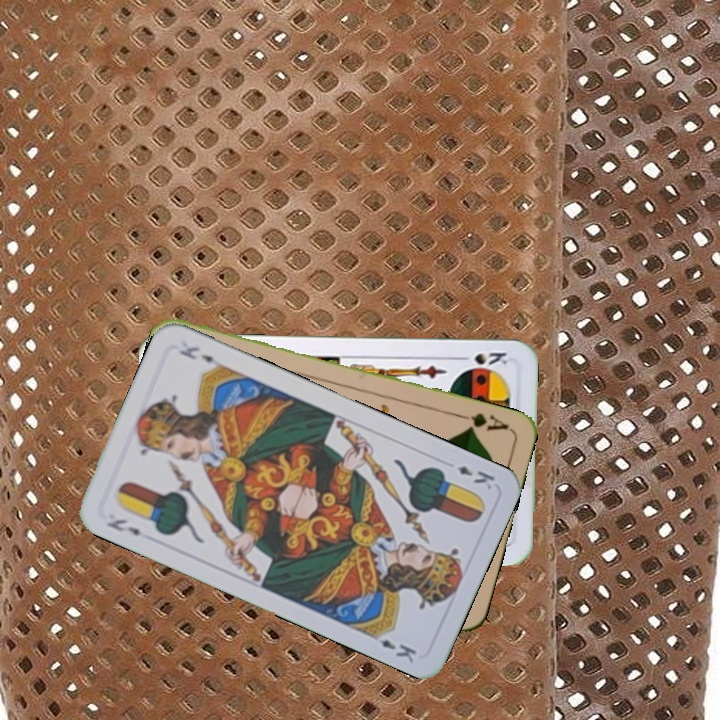EK: (453, 462, 497, 492), (102, 514, 143, 539)
GA: (454, 408, 512, 434)
SK: (453, 348, 510, 368)
